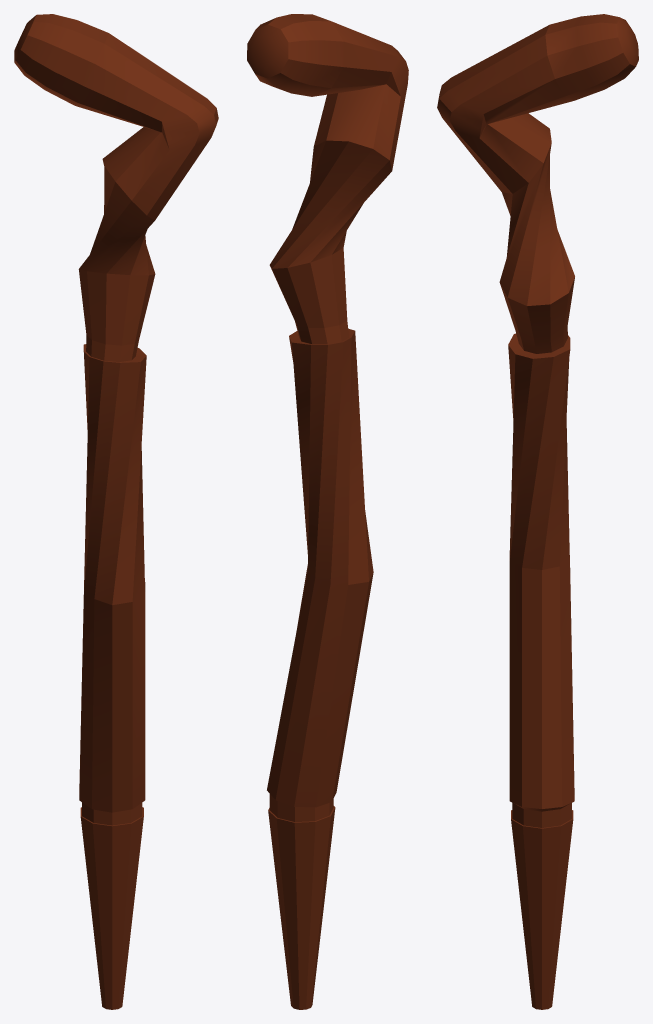
File: woodenstaff.FBX
3 views of the same model, side by side, from view 1: azimuth 90°, elevation 25°; view 2: azimuth 150°, elevation 25°; view 3: azimuth 270°, elevation 25° (orthographic). The views are drawn at different scales.
Parts seen in each view (by area): view 1: Cylinder001; view 2: Cylinder001; view 3: Cylinder001.
Part boxes in pixels (bbox=[...]): Cylinder001: bbox=[14, 14, 218, 1009]; Cylinder001: bbox=[247, 14, 408, 1009]; Cylinder001: bbox=[437, 14, 638, 1009].
Bounding box in the file's own units: 0.1038 × 0.1724 × 0.9245.
